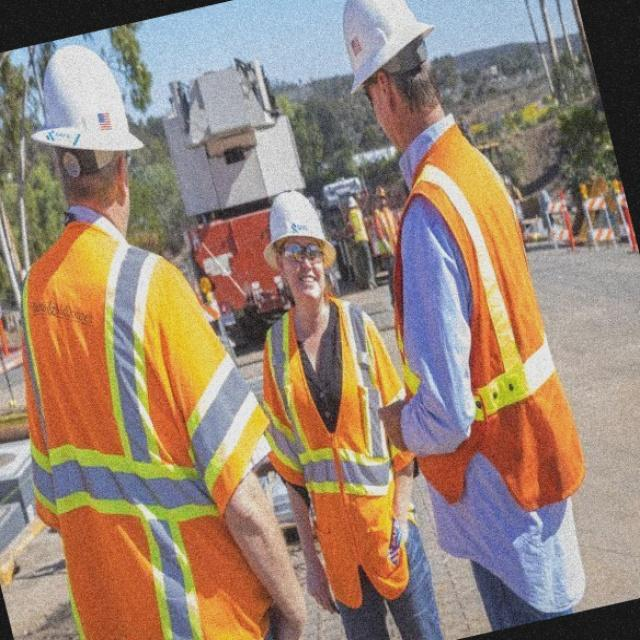helmet: (30, 43, 146, 154), (328, 0, 439, 99), (265, 188, 344, 265)
safety_vest: (19, 217, 280, 638), (390, 125, 582, 536), (262, 301, 418, 614)
